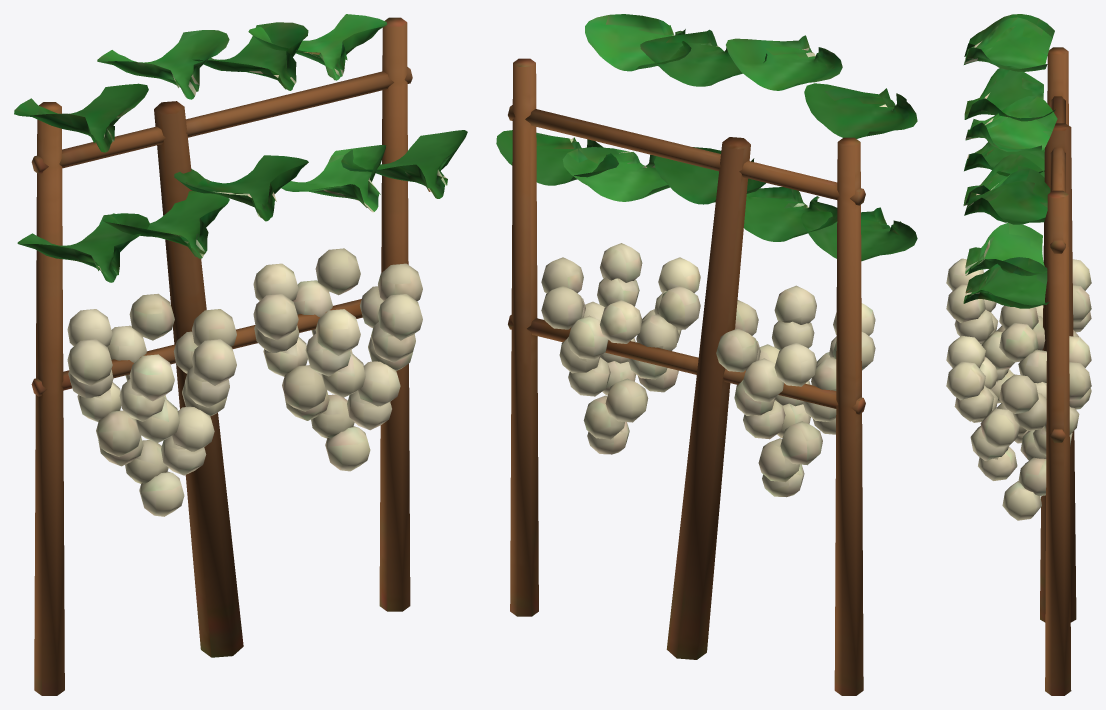
Rendered from crop_vanilla.glb.
3 views of the same model, side by side, from view 1: azimuth 30°, elevation 25°; view 2: azimuth 150°, elevation 25°; view 3: azimuth 270°, elevation 25° (orthographic). The views are drawn at different scales.
Visible parts, largest first — view 1: crop_vanilla, fruit; view 2: crop_vanilla, fruit; view 3: crop_vanilla, fruit.
Part boxes in pixels (bbox=[...]): crop_vanilla: bbox=[14, 14, 467, 695]; fruit: bbox=[67, 248, 422, 516]; crop_vanilla: bbox=[496, 14, 917, 695]; fruit: bbox=[541, 243, 875, 497]; crop_vanilla: bbox=[963, 14, 1076, 695]; fruit: bbox=[946, 258, 1091, 520].
Size of the model in its own units: 0.3364 by 0.4626 by 0.1115.
1 material, 1 textured.
